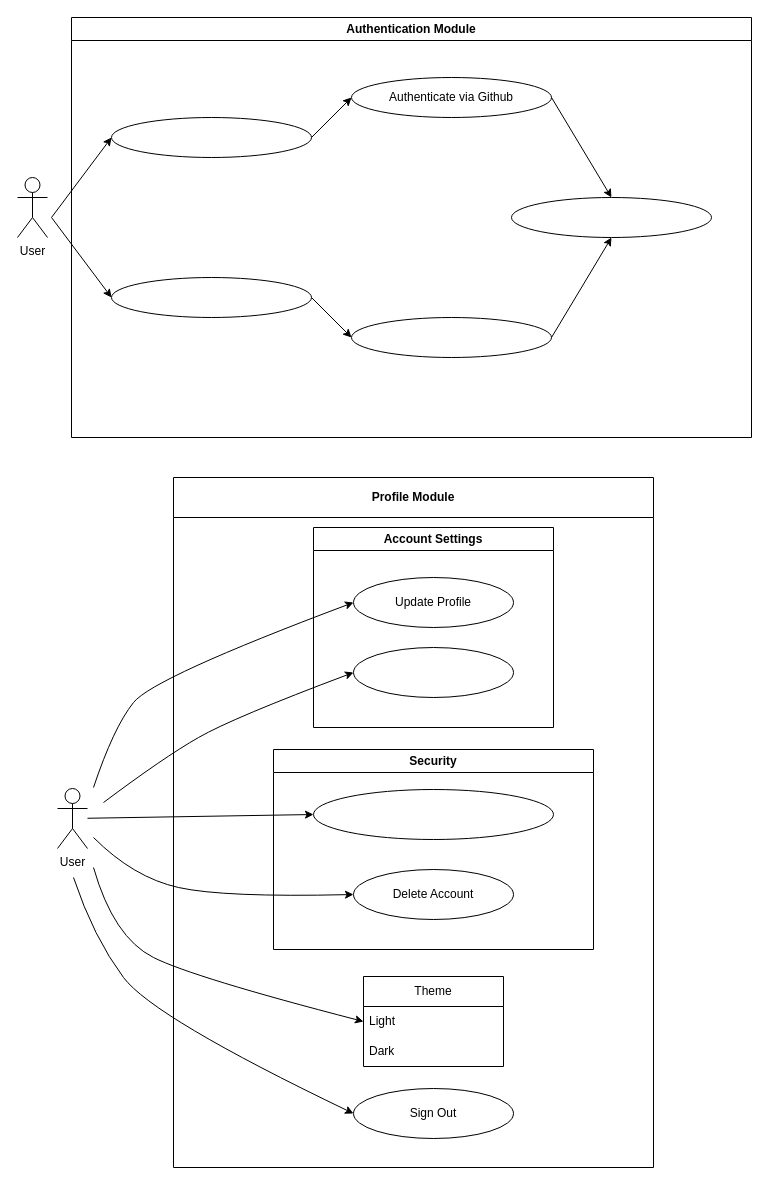
Image size: 769x1185. Some labels were removed from this diagram. Here are the shapes that lost their labels. From the top down, the centre of each, then its label:
the point at 211,137: Login With GitHub
the point at 611,217: Access Restricted Page
the point at 211,297: Login With Google
the point at 451,337: Authenticate via Google
the point at 433,672: Connected Accouts
the point at 433,814: Active Device Management
